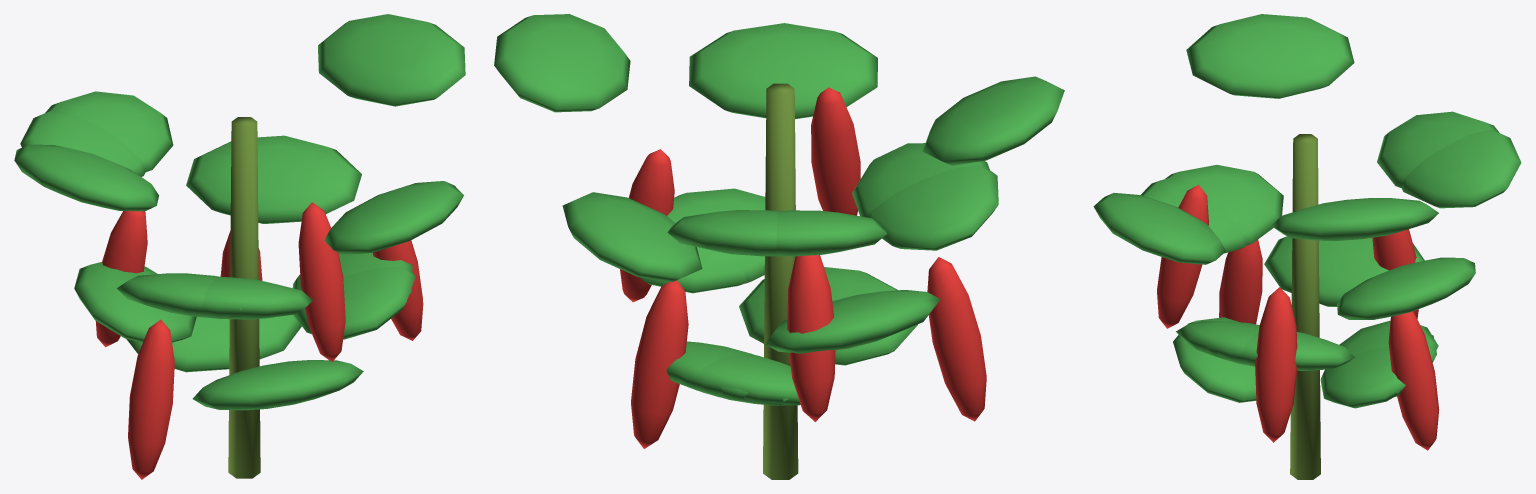
Rendered from bush_long.glb.
3 renders of one model, left to right at view 1: azimuth 30°, elevation 25°; view 2: azimuth 150°, elevation 25°; view 3: azimuth 270°, elevation 25°, orthographic. The views are drawn at different scales.
Visible parts, largest first — view 1: Leaf, Fruit, Stem; view 2: Leaf, Fruit, Stem; view 3: Leaf, Fruit, Stem.
Boxes of the visible parts, x1,y1,x2,y2 form: Leaf: (14,14,465,410); Fruit: (95,202,423,479); Stem: (228,117,260,478); Leaf: (494,14,1064,405); Fruit: (620,87,986,448); Stem: (763,83,798,479); Leaf: (1093,14,1521,408); Fruit: (1157,185,1439,450); Stem: (1290,134,1320,479).
Bounding box in the file's own units: 0.8141 × 0.6399 × 0.6932.
